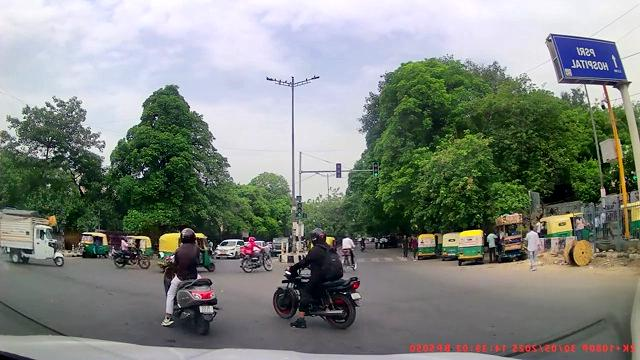motorcycle_with_helmet: (272, 227, 363, 329), (160, 226, 219, 335)
